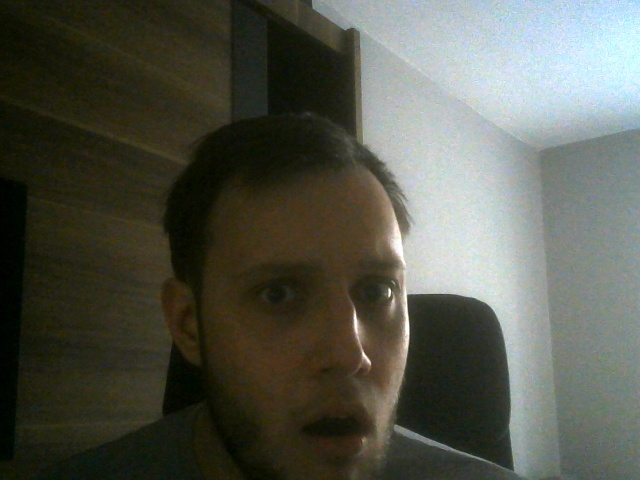surprised: (161, 115, 413, 480)
